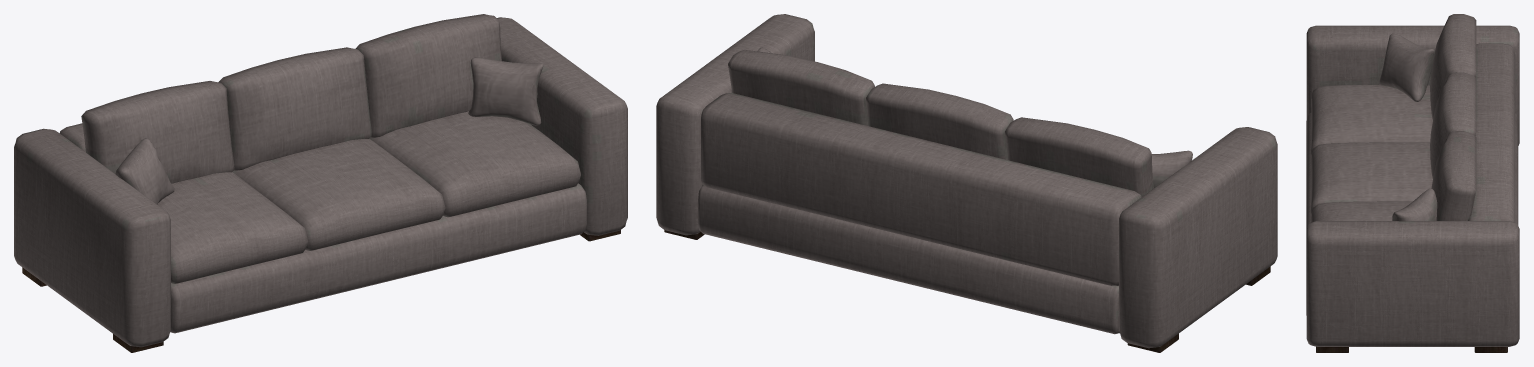
File: Sofa.fbx
3 views of the same model, side by side, from view 1: azimuth 30°, elevation 25°; view 2: azimuth 150°, elevation 25°; view 3: azimuth 270°, elevation 25° (orthographic). The views are drawn at different scales.
Parts seen in each view (by area): view 1: defaultMaterial; view 2: defaultMaterial; view 3: defaultMaterial.
Boxes of the visible parts, x1,y1,x2,y2 form: defaultMaterial: (14,14,627,352); defaultMaterial: (656,14,1277,352); defaultMaterial: (1306,14,1519,352).
Size of the model in its own units: 200 by 65.93 by 83.87.
Materials: 1 (1 with a texture image).
